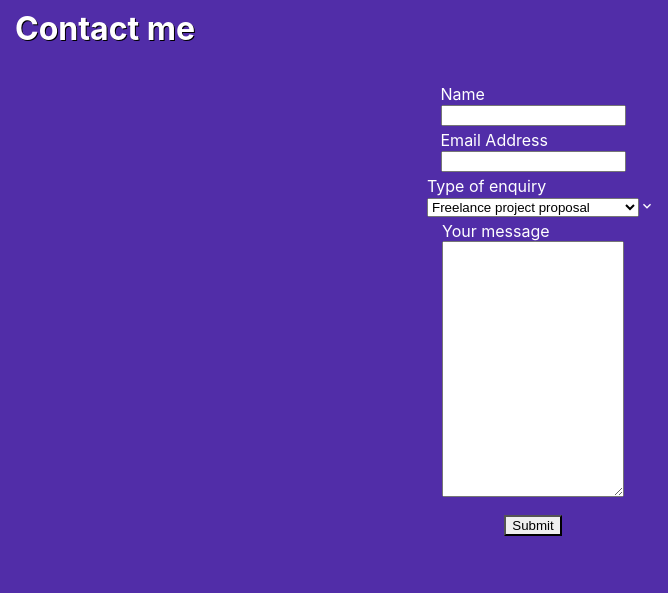
Test case: ContactMeSection Component › shows validation errors on empty submit
Click the button "Submit" at (533, 525), box [504,515,562,536]
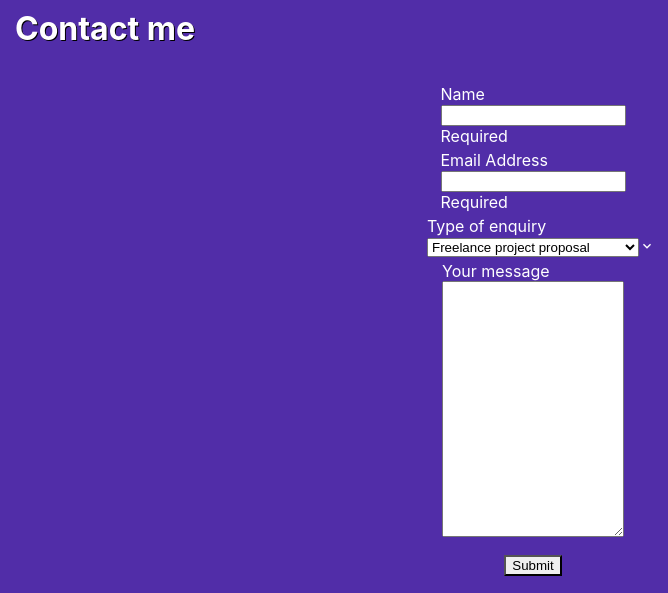
Expected: the text "Required" is shown 2 times, [440,126,508,146]; [440,192,508,212]
Expected: the text "Required" below "Name" is shown, [440,126,508,146]
Expected: the text "Required" below "Email Address" is shown, [440,192,508,212]
